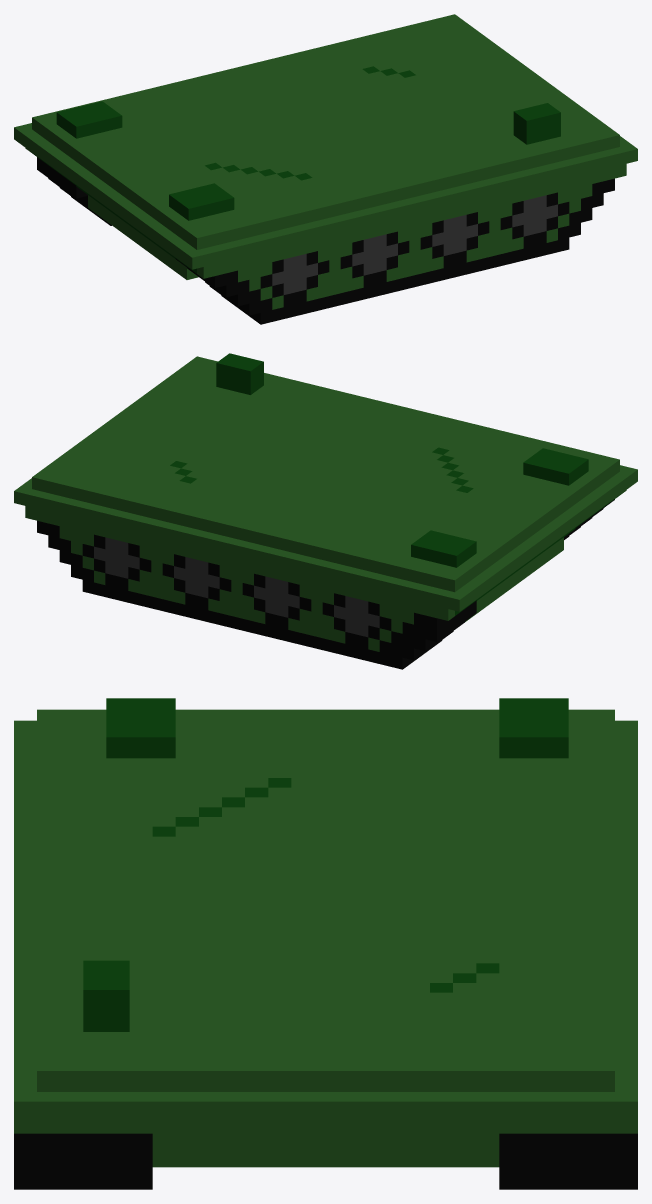
File: TankStandartBody.obj
3 views of the same model, one above another, from view 1: azimuth 30°, elevation 25°; view 2: azimuth 150°, elevation 25°; view 3: azimuth 270°, elevation 25° (orthographic). The views are drawn at different scales.
Size of the model in its own units: 3.9 by 1 by 2.7.
1 material, 1 textured.
